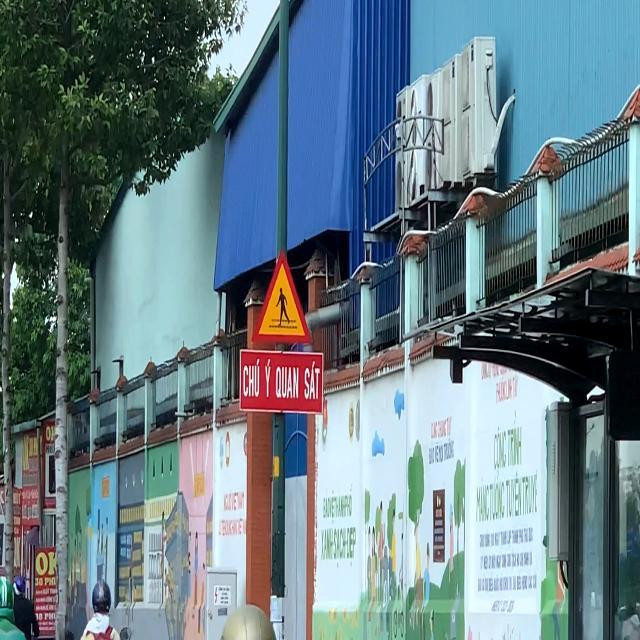W-224: (252, 252, 312, 346)
